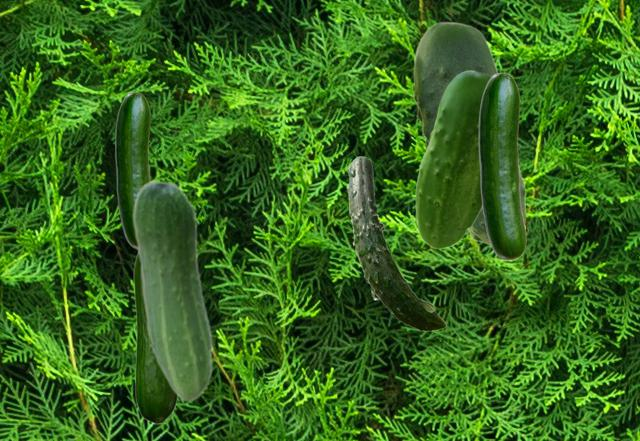cucumber: (413, 21, 524, 243), (132, 179, 213, 401), (346, 156, 445, 330), (415, 70, 490, 248), (478, 72, 525, 259), (133, 254, 177, 423), (115, 92, 150, 248)
